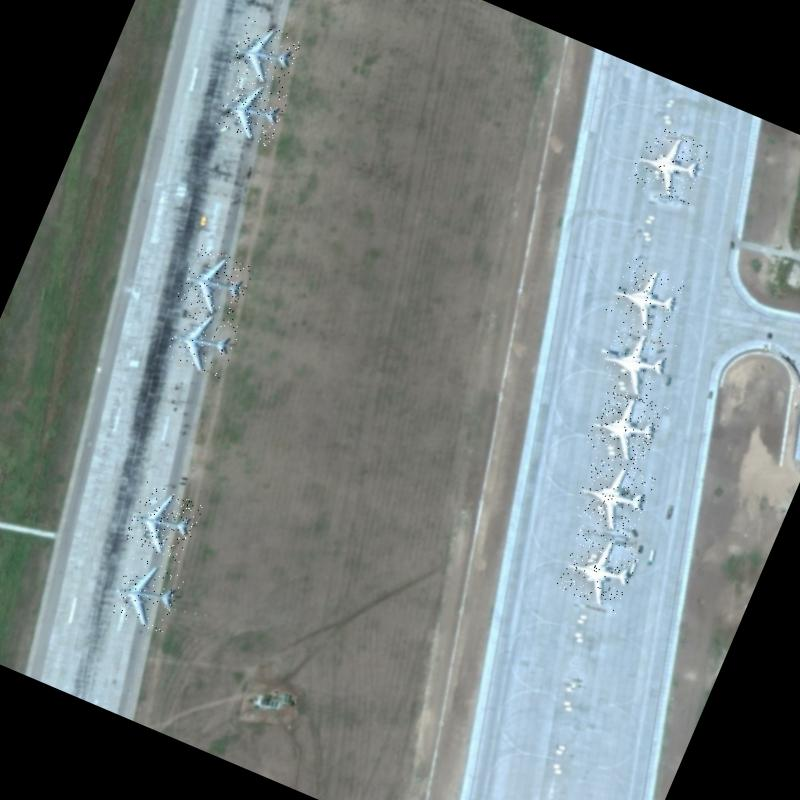A17: (123, 482, 204, 563), (108, 554, 186, 635), (163, 302, 243, 380), (176, 244, 255, 322), (214, 73, 291, 148), (227, 17, 303, 92)
A6: (554, 524, 644, 614), (570, 451, 657, 538), (627, 122, 712, 207), (604, 256, 690, 340), (584, 384, 668, 469), (596, 322, 677, 402)
